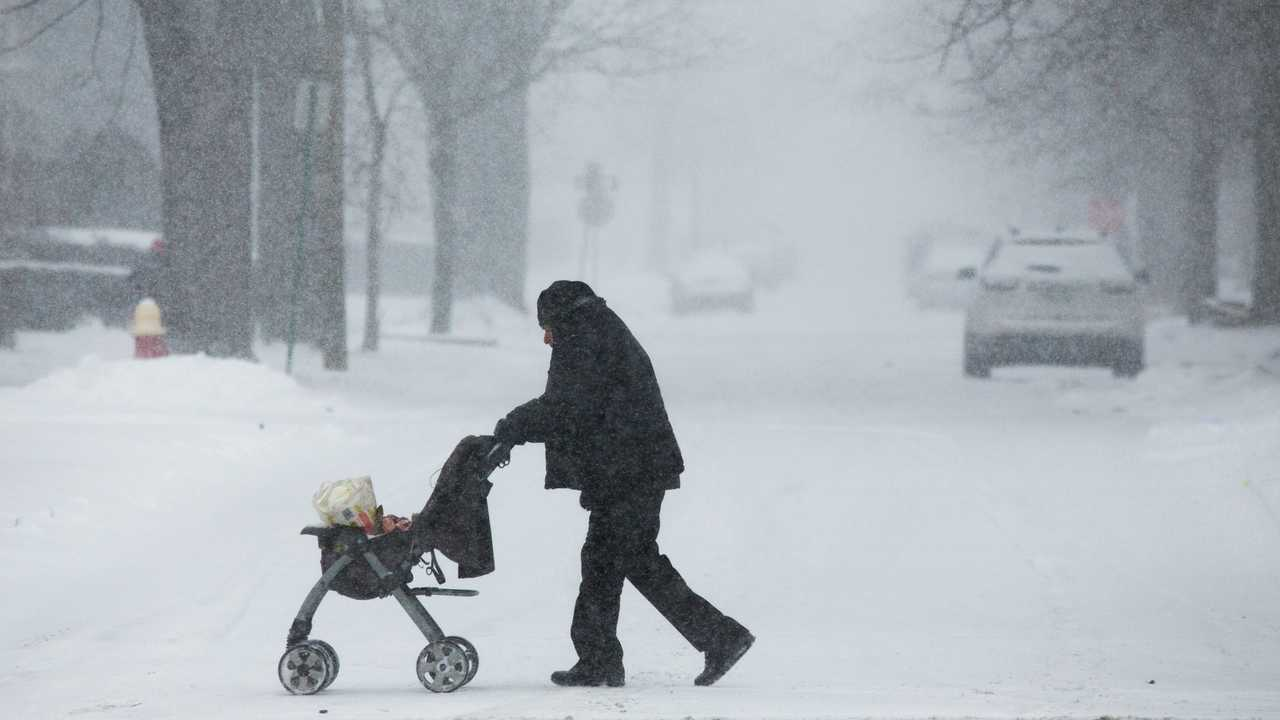car: (953, 229, 1148, 376), (662, 251, 753, 318), (923, 242, 976, 306)
person: (461, 286, 733, 693)
